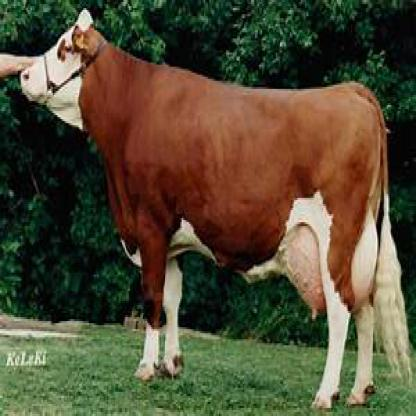cow: (21, 10, 410, 410)
